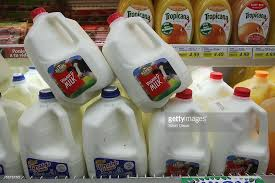milk: (22, 14, 115, 99), (102, 16, 195, 99), (20, 92, 85, 181), (84, 94, 150, 178), (214, 92, 274, 175), (157, 98, 211, 174), (5, 74, 39, 98), (202, 70, 232, 95)
